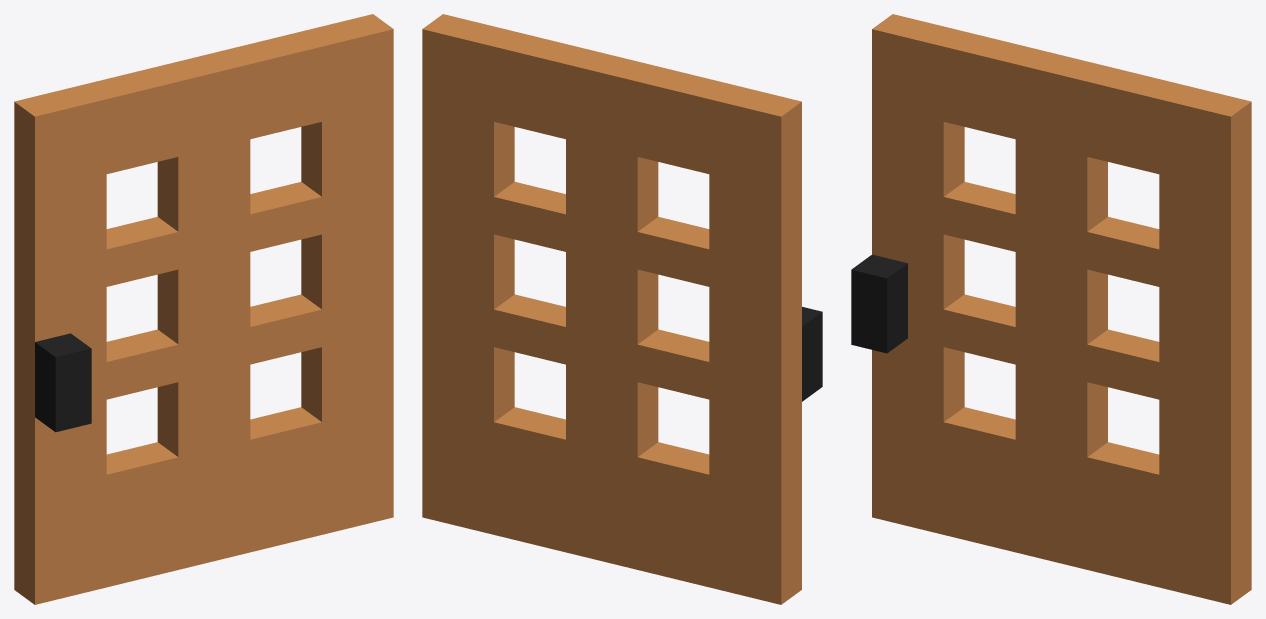
File: door1.obj
The picture shows the model from 3 angles, left to right: view 1: azimuth 30°, elevation 25°; view 2: azimuth 150°, elevation 25°; view 3: azimuth 330°, elevation 25°; orthographic projection.
Visible parts, largest first — view 1: door1; view 2: door1; view 3: door1.
Boxes of the visible parts, bbox=[...] form: door1: bbox=[14, 14, 393, 604]; door1: bbox=[422, 14, 822, 604]; door1: bbox=[851, 14, 1251, 604].
Size of the model in its own units: 10 by 13 by 2.
Materials: 1 (1 with a texture image).
